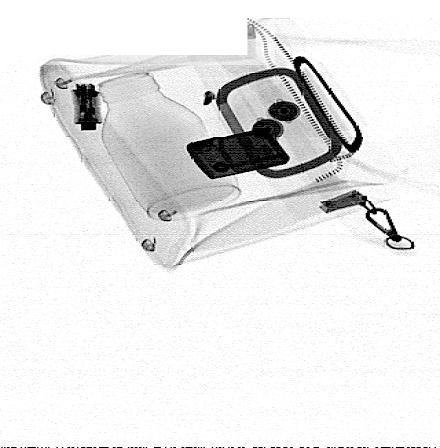Lighter: (185, 127, 291, 180)
